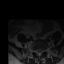CCS_normal: (38, 49, 40, 56)
LFS_stenosis: (42, 49, 44, 53)
LLS_normal: (40, 49, 42, 55)
RFS_normal: (34, 49, 36, 53)
RLS_normal: (36, 49, 38, 56)
